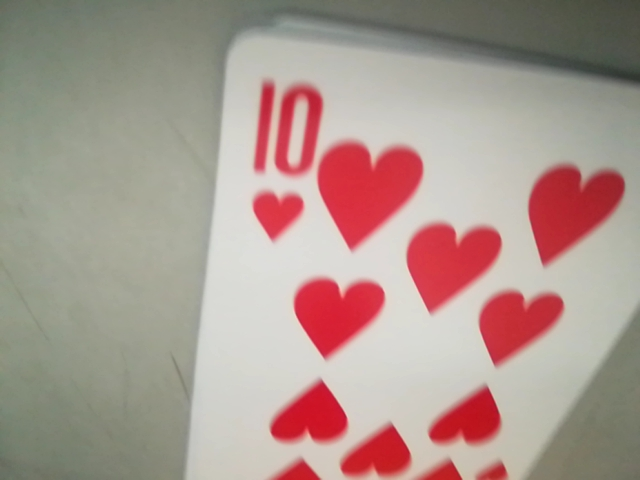hx 10: (241, 77, 321, 248)
